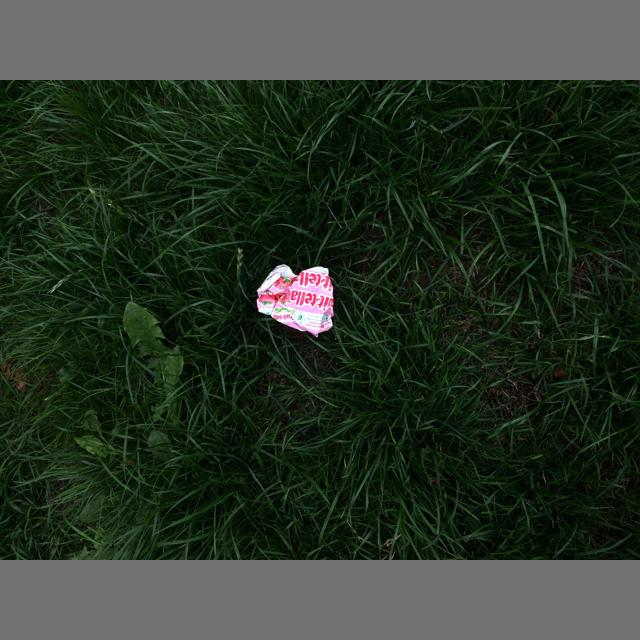litter: (257, 265, 334, 337)
